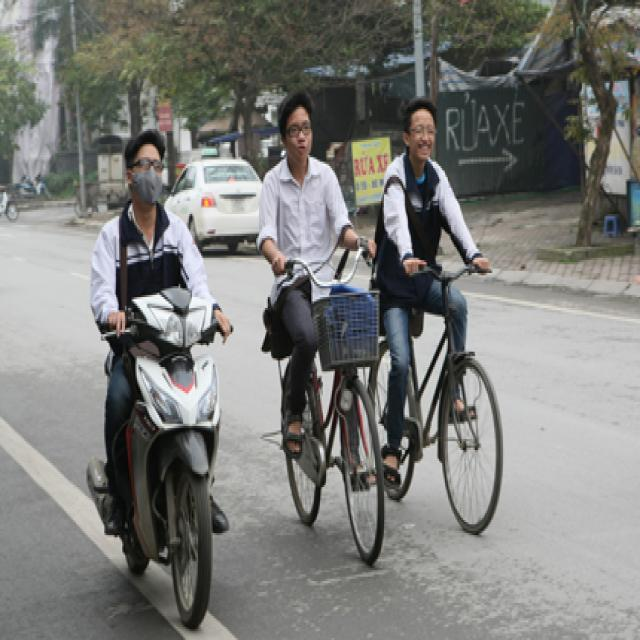no_helmet: (120, 118, 174, 212), (273, 80, 320, 166), (398, 88, 440, 176)
